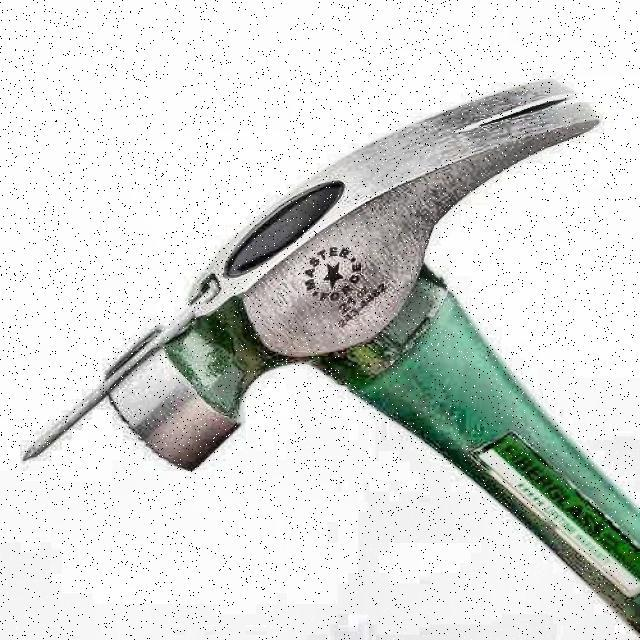hammer: (103, 77, 640, 640)
